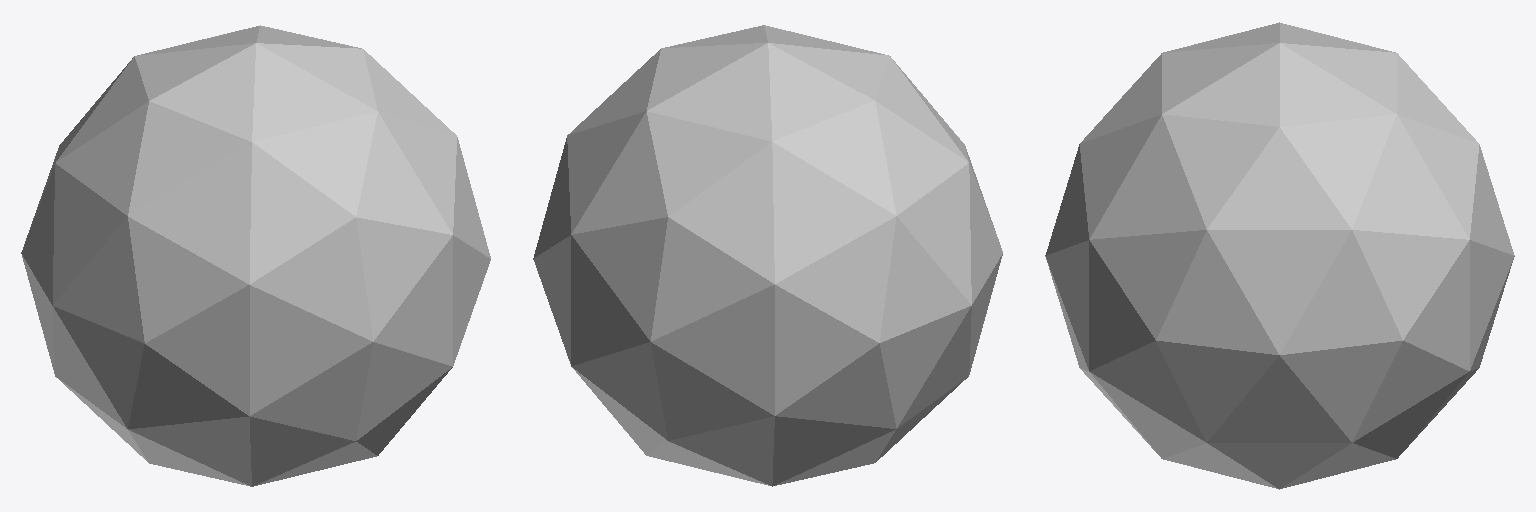
File: earth2.obj
3 views of the same model, side by side, from view 1: azimuth 30°, elevation 25°; view 2: azimuth 150°, elevation 25°; view 3: azimuth 270°, elevation 25° (orthographic).
Visible parts, largest first — view 1: 球体.2; view 2: 球体.2; view 3: 球体.2.
Boxes of the visible parts, x1=… form: 球体.2: x1=21, y1=25, x2=490, y2=486; 球体.2: x1=533, y1=25, x2=1002, y2=486; 球体.2: x1=1045, y1=22, x2=1514, y2=489.
Bounding box in the file's own units: 234 × 234 × 234.